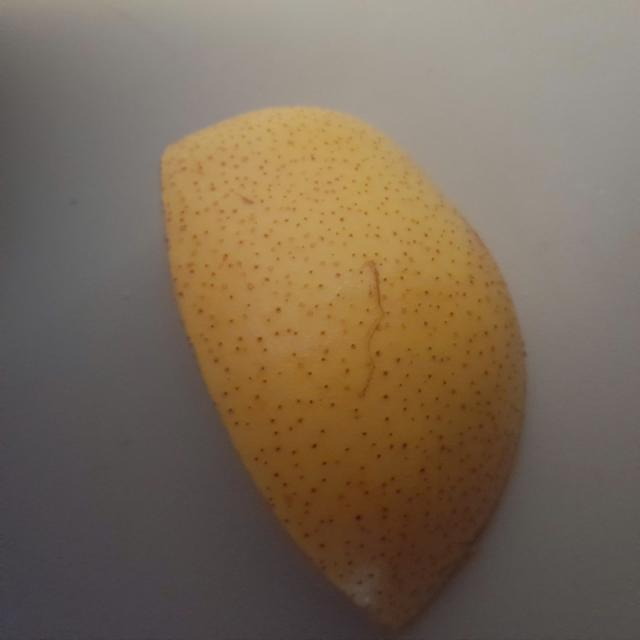Le: (138, 85, 544, 632)
